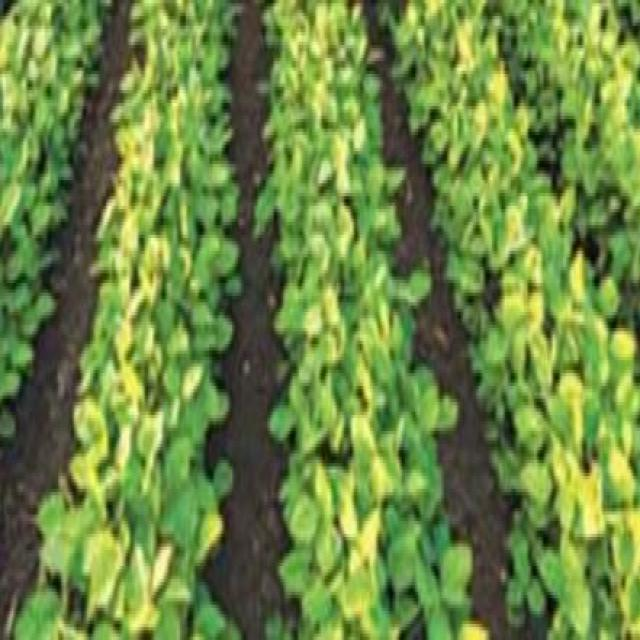row: (353, 0, 561, 640), (0, 0, 136, 638), (188, 0, 310, 640), (485, 0, 640, 397)
